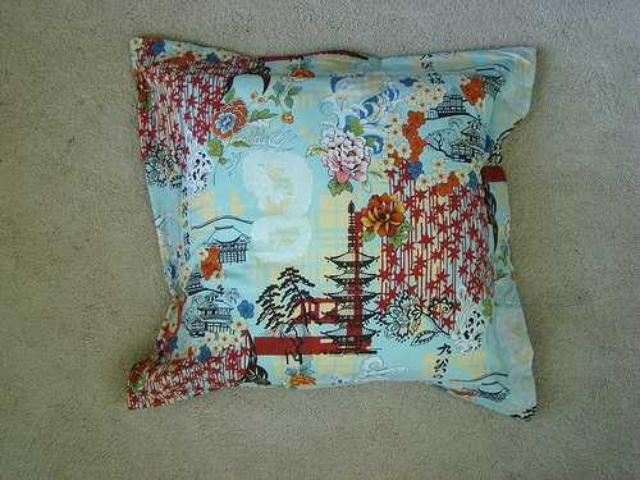pillow: (124, 34, 540, 420)
